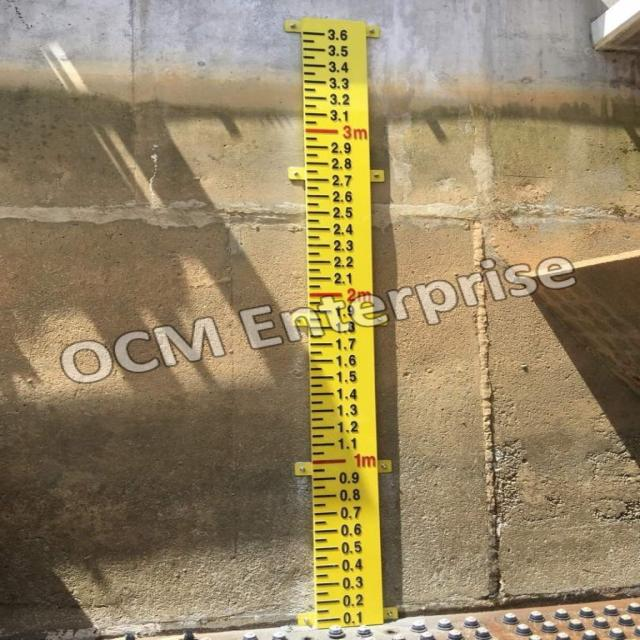ruler: (293, 14, 395, 632)
value: (350, 450, 378, 470), (337, 504, 366, 522), (337, 556, 367, 573), (339, 574, 367, 592), (336, 521, 364, 539), (334, 434, 362, 452), (336, 467, 362, 486), (334, 418, 363, 434), (340, 592, 367, 609), (339, 539, 365, 556), (336, 487, 365, 502), (341, 124, 368, 140), (341, 609, 366, 626), (326, 59, 352, 75), (345, 288, 373, 302), (326, 43, 352, 58), (336, 402, 360, 418), (334, 336, 358, 352), (334, 353, 359, 368), (328, 140, 353, 155), (328, 157, 354, 171), (325, 27, 351, 41), (336, 369, 360, 384), (336, 386, 359, 401), (332, 238, 355, 253), (332, 222, 356, 236), (330, 205, 354, 219), (330, 189, 354, 203), (328, 92, 352, 106), (328, 76, 352, 90), (329, 173, 354, 186), (332, 271, 353, 286), (333, 321, 357, 334), (334, 305, 357, 318), (333, 255, 356, 268), (328, 109, 351, 122)
